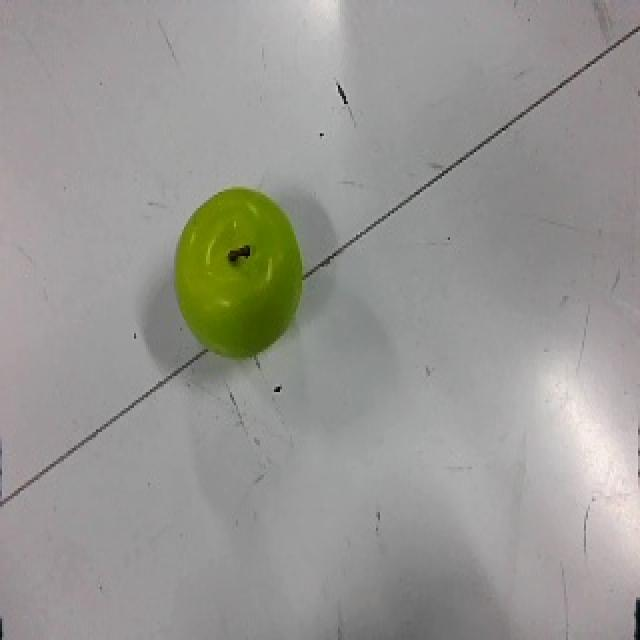apple: (174, 185, 305, 360)
